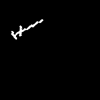double_crochet: (12, 20, 42, 38)
